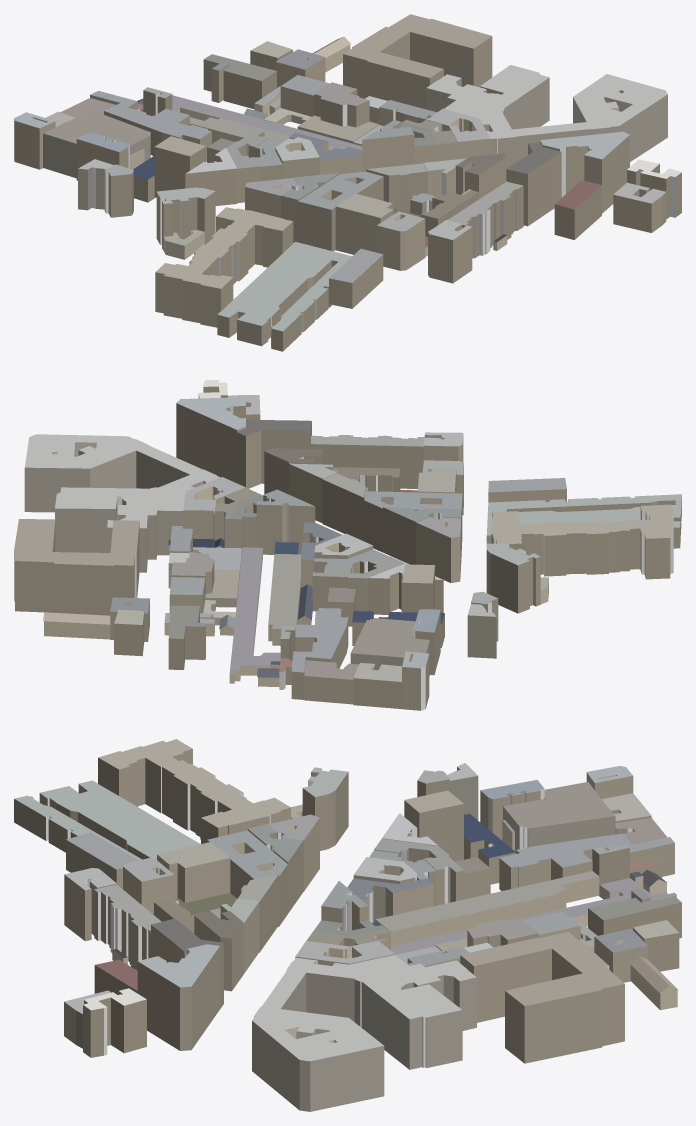
3 renders of one model, top to bottom at view 1: azimuth 30°, elevation 25°; view 2: azimuth 150°, elevation 25°; view 3: azimuth 270°, elevation 25°, orthographic. The views are drawn at different scales.
Visible parts, largest first — view 1: tuile; view 2: tuile; view 3: tuile.
Boxes of the visible parts, bbox=[...] form: tuile: bbox=[14, 14, 681, 351]; tuile: bbox=[14, 380, 681, 710]; tuile: bbox=[14, 739, 681, 1111].
Bounding box in the file's own units: 336 × 35.66 × 293.
